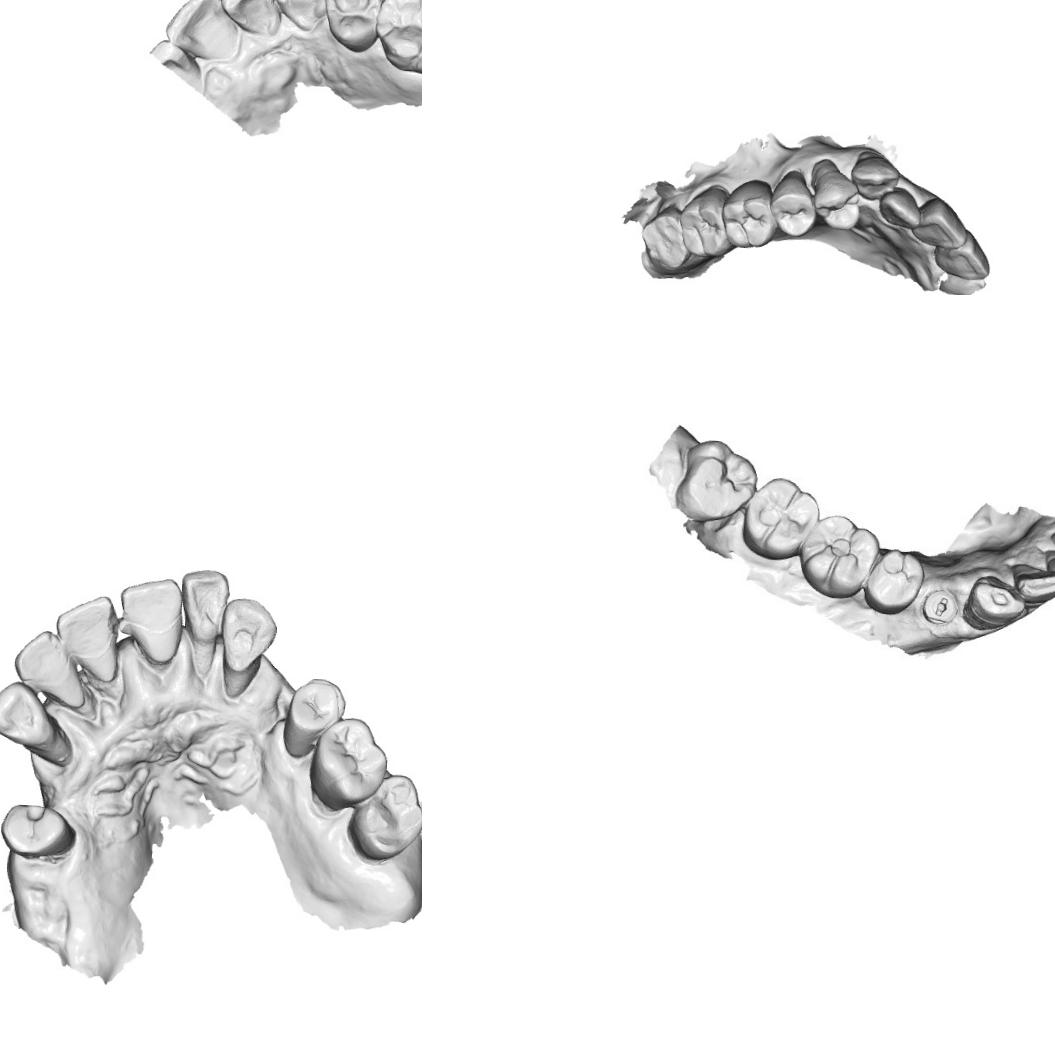canine: (216, 594, 280, 676), (0, 679, 61, 753), (969, 572, 1026, 630), (849, 148, 899, 201), (268, 0, 328, 33)
implant_minus: (918, 584, 964, 633)
incisor: (9, 627, 77, 700), (50, 592, 118, 664), (114, 575, 182, 643), (176, 563, 235, 641), (163, 0, 239, 59), (910, 193, 968, 249), (932, 230, 994, 282), (877, 184, 925, 230), (218, 0, 277, 37), (1008, 560, 1055, 604)
molar: (675, 431, 763, 525), (305, 714, 390, 810), (740, 473, 817, 566), (346, 770, 422, 863), (798, 512, 876, 602), (676, 182, 737, 259), (718, 174, 778, 250), (636, 204, 693, 272), (372, 0, 422, 76)
premolar: (0, 797, 73, 861), (284, 674, 346, 742), (862, 543, 924, 611), (810, 168, 864, 232), (320, 0, 383, 50), (770, 175, 818, 239)
